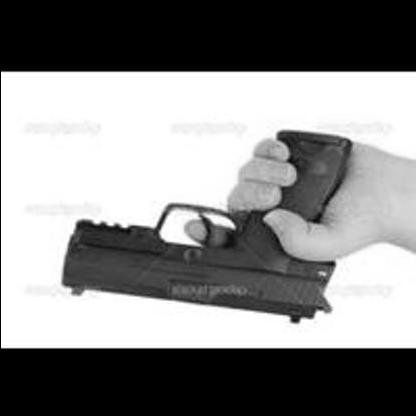weapon: (47, 128, 354, 327)
